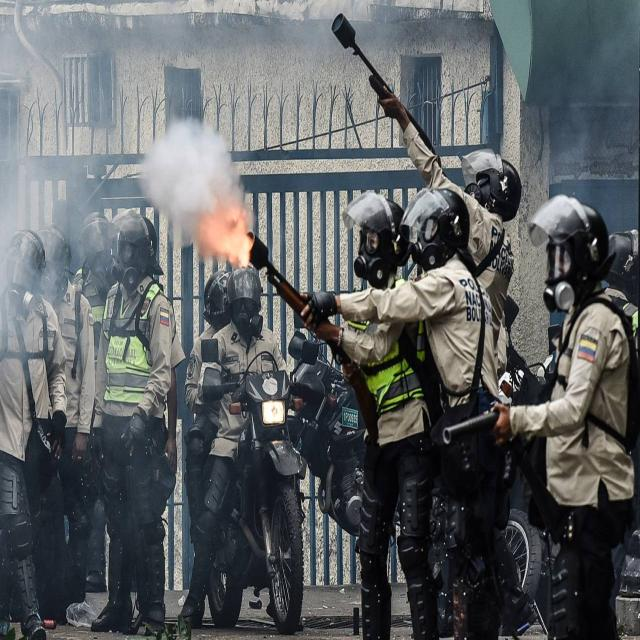police: (338, 16, 516, 624), (246, 189, 434, 640), (447, 209, 639, 631), (78, 194, 184, 640), (187, 232, 302, 640), (1, 228, 76, 640)
